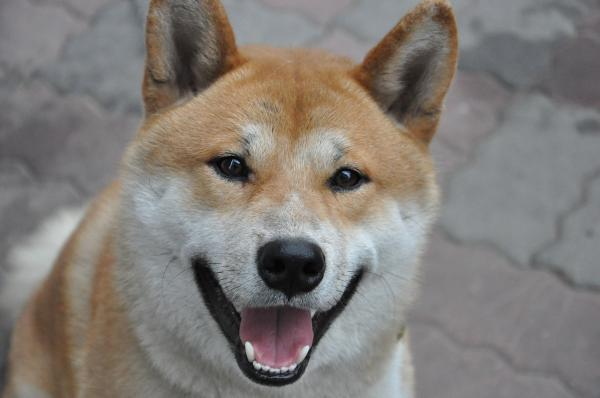dog: (1, 1, 470, 398)
